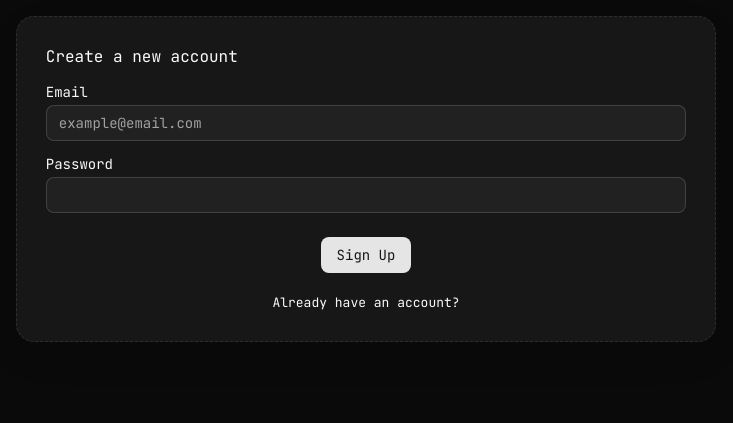
Scenario: CreateUser Component › displays error message if password is less than 8 characters
The width and height of the screenshot is (733, 423).
Type "test@example.com" into the field labelled "Email". click: {"x": 366, "y": 123}
box: [46,105,686,141]
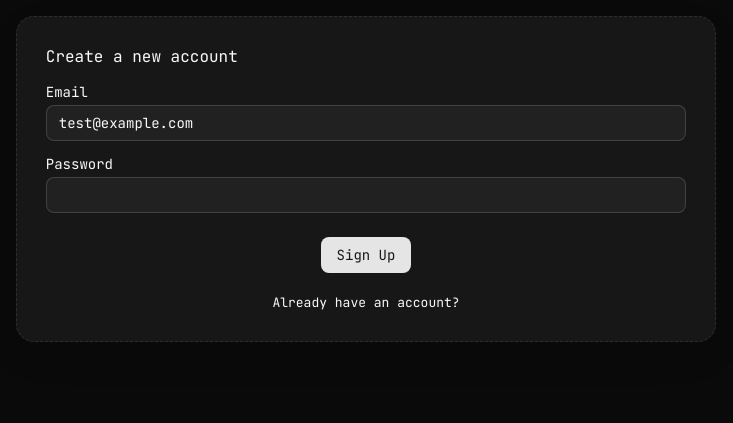
Type "short" into the password field labelled "Password". click: {"x": 366, "y": 194}
box: [46,176,686,212]
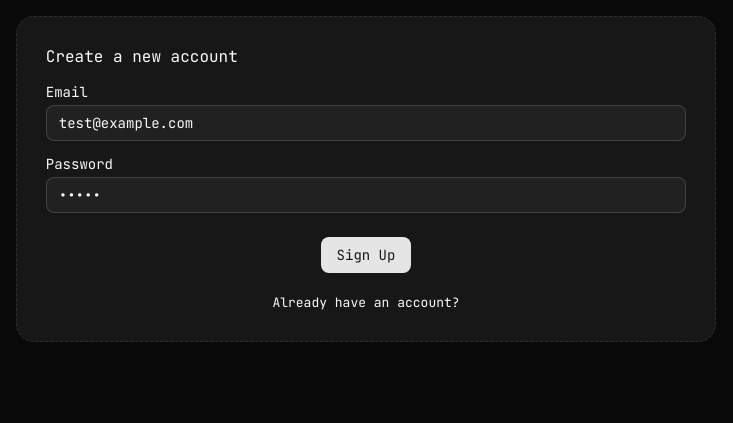
Click the button "Sign Up". click: {"x": 366, "y": 254}
box: [321,236,411,272]
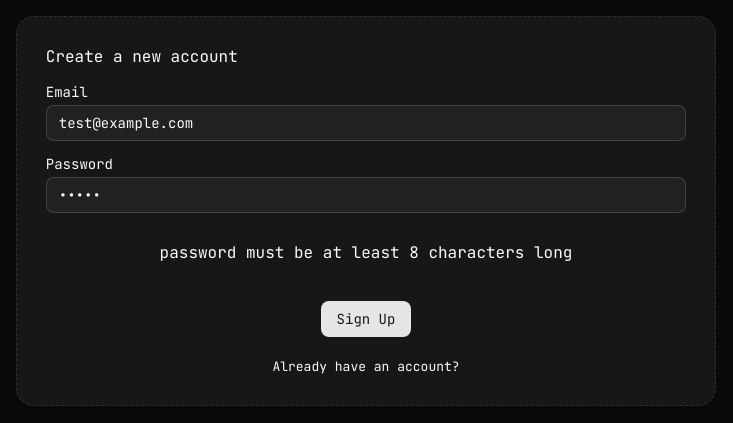
Now the text "password must be at least 8 characters long" is shown, box [160,240,572,264]
